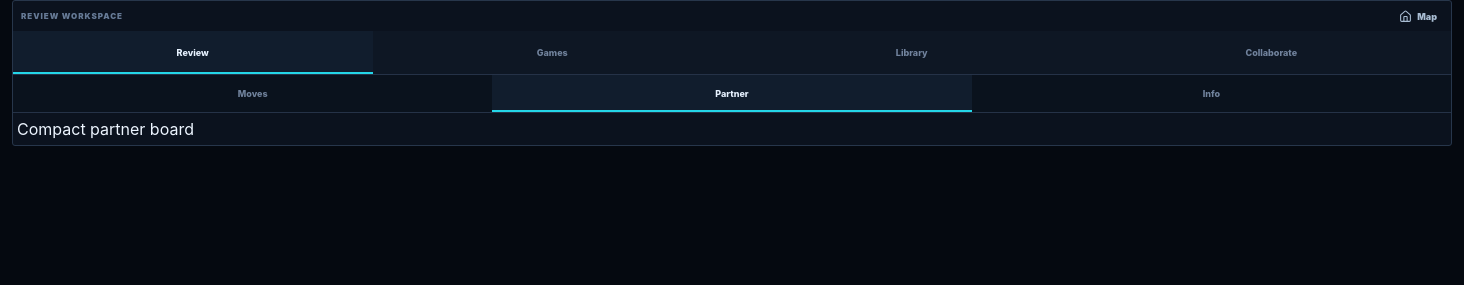
review utility panel › defaults to Partner and preserves a collaboration draft across primary tabs
Expected: the text "Compact partner board" is shown, x1=17 y1=119 x2=194 y2=139
Click the tab "Collaborate". click: (1271,52)
box: x1=1092 y1=31 x2=1451 y2=74
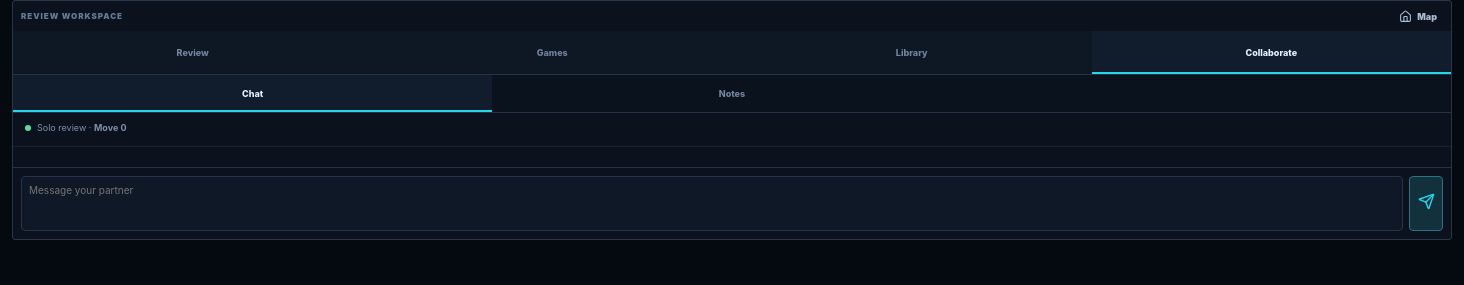
Type "keep this draft" into the text box with placeholder "Message your partner". click: (712,204)
box: x1=21 y1=176 x2=1403 y2=231
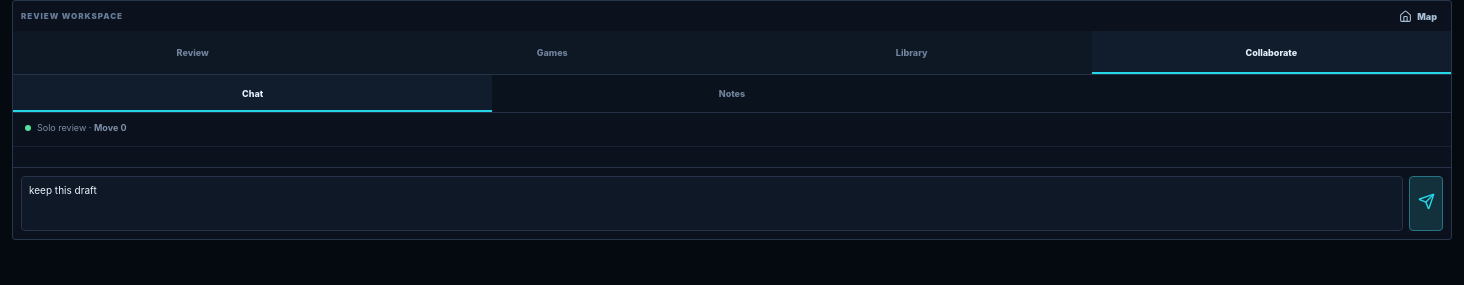
Click the tab "Games". click: (552,52)
box: x1=372 y1=31 x2=732 y2=74
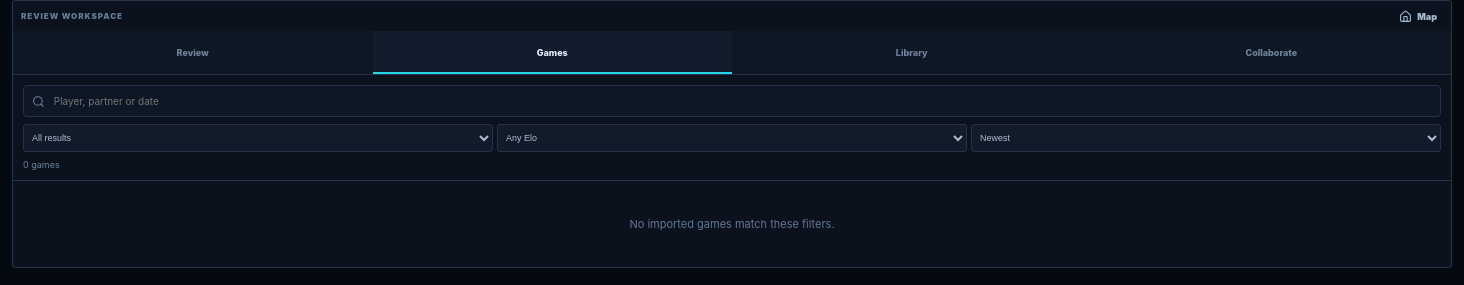
Click the tab "Collaborate". click: (1271,52)
box: x1=1092 y1=31 x2=1451 y2=74
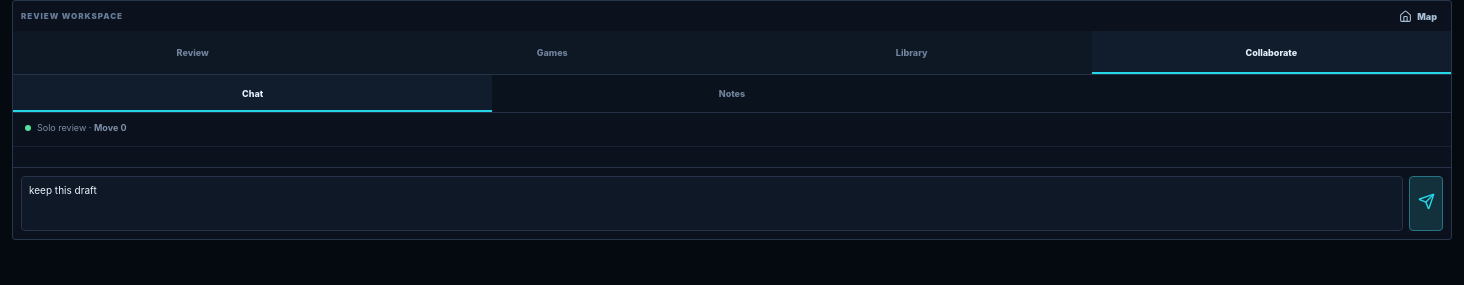
Expected: the text box with placeholder "Message your partner" holds "keep this draft", x1=21 y1=176 x2=1403 y2=231
